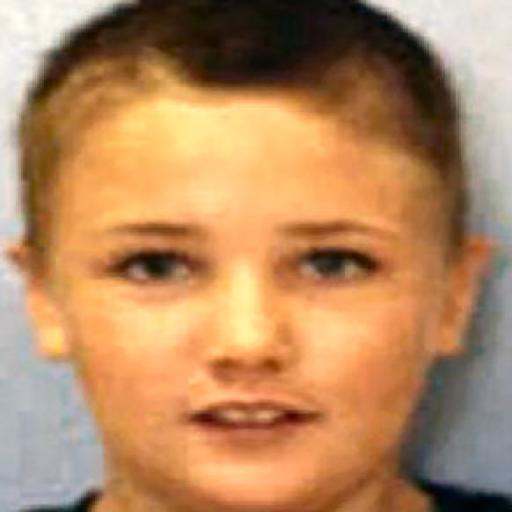Autism: (54, 19, 512, 494)
